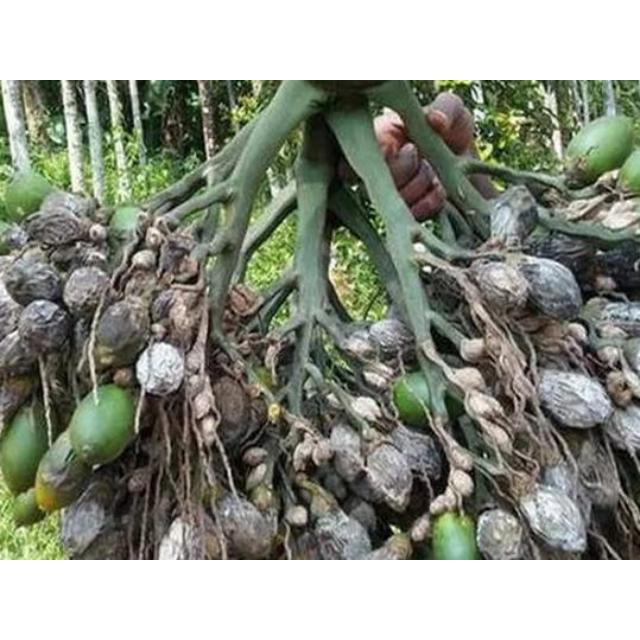damaged: (518, 467, 586, 553), (60, 480, 120, 556), (215, 492, 278, 558), (358, 441, 417, 509), (518, 257, 580, 319), (91, 302, 147, 370), (28, 196, 96, 252), (210, 376, 260, 448), (387, 426, 445, 488), (573, 434, 619, 510), (542, 373, 606, 427), (470, 260, 528, 314), (4, 255, 62, 308), (530, 232, 596, 278), (312, 509, 372, 559), (487, 187, 538, 245), (134, 342, 186, 396), (16, 300, 68, 354), (584, 298, 640, 344), (326, 422, 368, 482), (476, 508, 526, 558), (63, 266, 111, 316), (166, 288, 204, 344), (366, 318, 414, 362), (158, 516, 206, 560), (604, 402, 640, 458), (600, 242, 640, 292), (0, 328, 40, 377), (157, 231, 196, 277), (0, 274, 24, 342), (363, 530, 413, 560), (596, 199, 640, 233), (342, 328, 380, 366), (540, 462, 576, 501), (152, 288, 184, 324), (346, 501, 378, 534), (466, 392, 502, 420), (292, 434, 320, 470), (450, 366, 488, 392), (350, 396, 384, 424), (481, 420, 512, 450), (448, 468, 474, 498), (245, 463, 271, 492), (458, 336, 486, 362), (184, 345, 206, 375), (192, 390, 214, 420), (283, 504, 309, 528), (312, 439, 334, 466), (130, 249, 156, 271)
